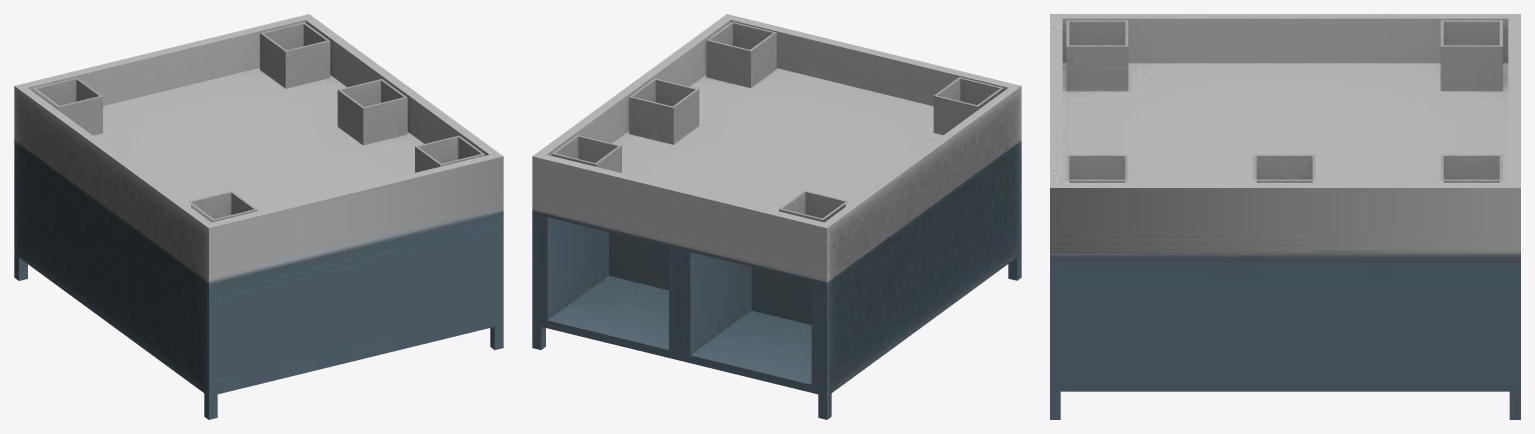
The picture shows the model from 3 angles, left to right: view 1: azimuth 30°, elevation 25°; view 2: azimuth 150°, elevation 25°; view 3: azimuth 270°, elevation 25°; orthographic projection. The views are drawn at different scales.
Visible parts, largest first — view 1: Gong_Zuo_Tai 1_0; view 2: Gong_Zuo_Tai 1_0; view 3: Gong_Zuo_Tai 1_0.
Part boxes in pixels (x1,y1,x2,y2): Gong_Zuo_Tai 1_0: (14,14,503,419); Gong_Zuo_Tai 1_0: (532,14,1021,419); Gong_Zuo_Tai 1_0: (1050,14,1520,419).
Bounding box in the file's own units: 0.98 × 0.6094 × 1.12.
1 material, 1 textured.
